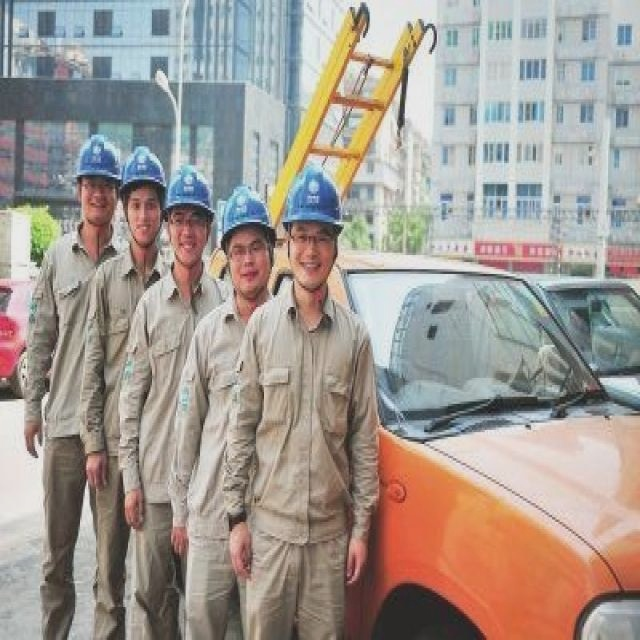Con_Casco: (279, 166, 346, 286), (220, 188, 276, 300)
Sin_Chaleco: (236, 300, 376, 531)
